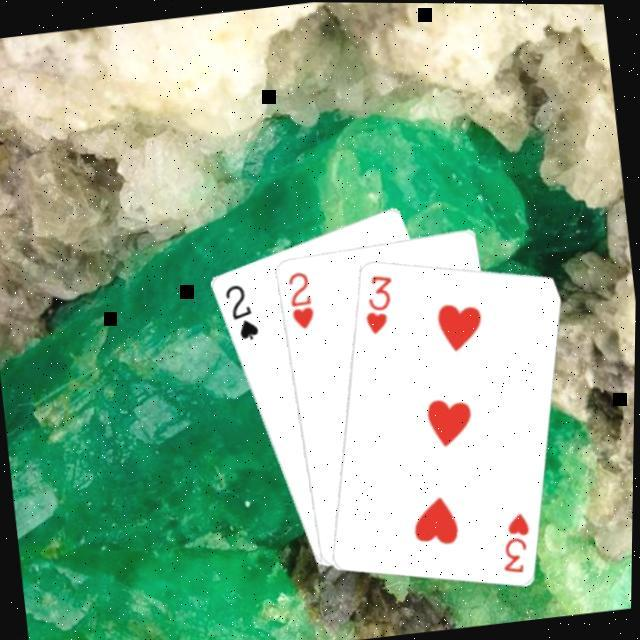2H: (283, 266, 320, 334)
2S: (220, 278, 264, 344)
3H: (494, 507, 539, 577), (358, 270, 402, 338)
